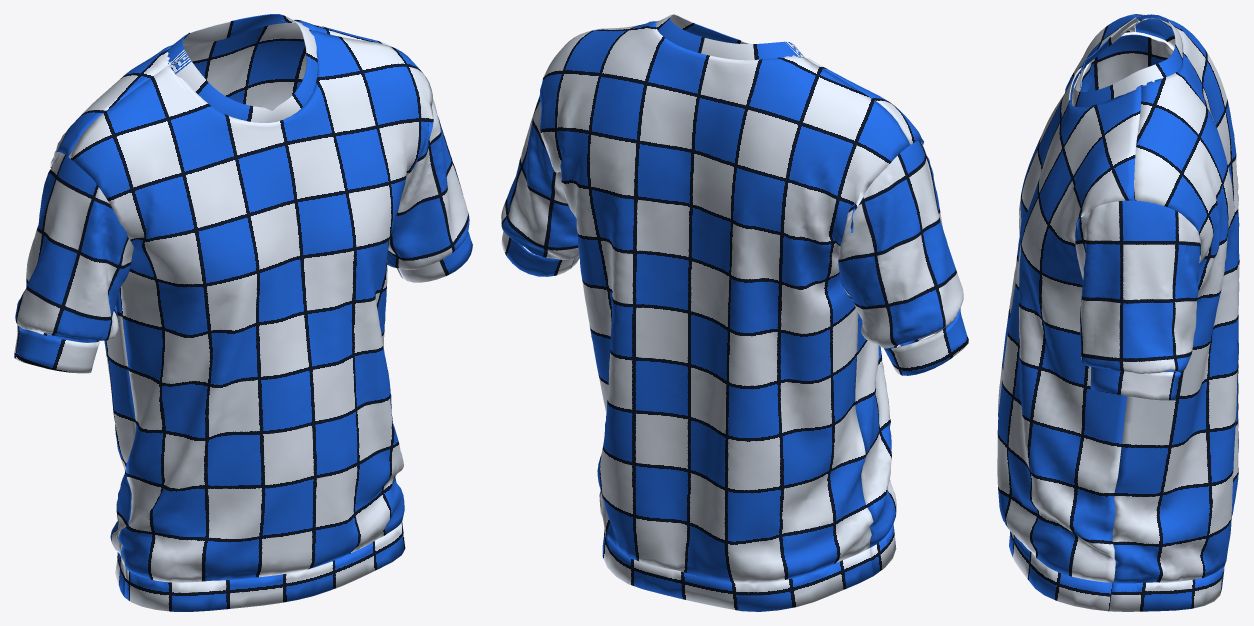
Rendered from checker.glb.
The picture shows the model from 3 angles, left to right: view 1: azimuth 30°, elevation 25°; view 2: azimuth 150°, elevation 25°; view 3: azimuth 270°, elevation 25°; orthographic projection. The views are drawn at different scales.
Parts seen in each view (by area): view 1: Crewneck_Body_Sleeve_Junctions_Hand_Smoothed_V21.004, Left_Sleeve_Root_Seated_V26, Crewneck_Body_Sleeve_Junctions_Hand_Smoothed_V21.006, Crewneck_Body_Sleeve_Junctions_Hand_Smoothed_V21.005, Right_Sleeve_Root_Seated_V26, Crewneck_Collar_Hand_Rebuilt_Online_UV_V18, Crewneck_Body_Sleeve_Junctions_Hand_Smoothed_V21, Crewneck_Body_Sleeve_Junctions_Hand_Smoothed_V21.001; view 2: Crewneck_Body_Sleeve_Junctions_Hand_Smoothed_V21.006, Left_Sleeve_Root_Seated_V26, Crewneck_Body_Sleeve_Junctions_Hand_Smoothed_V21.007, Crewneck_Body_Sleeve_Junctions_Hand_Smoothed_V21.004, Right_Sleeve_Root_Seated_V26, Crewneck_Collar_Hand_Rebuilt_Online_UV_V18, Crewneck_Body_Sleeve_Junctions_Hand_Smoothed_V21, Crewneck_Body_Sleeve_Junctions_Hand_Smoothed_V21.001, Crewneck_Body_Sleeve_Junctions_Hand_Smoothed_V21.005; view 3: Crewneck_Body_Sleeve_Junctions_Hand_Smoothed_V21.004, Crewneck_Body_Sleeve_Junctions_Hand_Smoothed_V21.006, Right_Sleeve_Root_Seated_V26, Crewneck_Body_Sleeve_Junctions_Hand_Smoothed_V21.007, Crewneck_Body_Sleeve_Junctions_Hand_Smoothed_V21.005, Left_Sleeve_Root_Seated_V26, Crewneck_Collar_Hand_Rebuilt_Online_UV_V18, Crewneck_Body_Sleeve_Junctions_Hand_Smoothed_V21.001.
Boxes of the visible parts, left/top/right/bottom form: Crewneck_Body_Sleeve_Junctions_Hand_Smoothed_V21.004: left=68, top=30, right=433, bottom=582; Left_Sleeve_Root_Seated_V26: left=15, top=152, right=133, bottom=341; Crewneck_Body_Sleeve_Junctions_Hand_Smoothed_V21.006: left=50, top=19, right=393, bottom=566; Crewneck_Body_Sleeve_Junctions_Hand_Smoothed_V21.005: left=124, top=521, right=405, bottom=611; Right_Sleeve_Root_Seated_V26: left=387, top=99, right=469, bottom=270; Crewneck_Collar_Hand_Rebuilt_Online_UV_V18: left=167, top=14, right=317, bottom=122; Crewneck_Body_Sleeve_Junctions_Hand_Smoothed_V21: left=14, top=325, right=99, bottom=373; Crewneck_Body_Sleeve_Junctions_Hand_Smoothed_V21.001: left=396, top=231, right=472, bottom=282; Crewneck_Body_Sleeve_Junctions_Hand_Smoothed_V21.006: left=539, top=21, right=909, bottom=583; Left_Sleeve_Root_Seated_V26: left=838, top=140, right=963, bottom=348; Crewneck_Body_Sleeve_Junctions_Hand_Smoothed_V21.007: left=602, top=529, right=873, bottom=611; Crewneck_Body_Sleeve_Junctions_Hand_Smoothed_V21.004: left=588, top=21, right=923, bottom=547; Right_Sleeve_Root_Seated_V26: left=501, top=96, right=579, bottom=259; Crewneck_Collar_Hand_Rebuilt_Online_UV_V18: left=655, top=14, right=804, bottom=60; Crewneck_Body_Sleeve_Junctions_Hand_Smoothed_V21: left=884, top=308, right=968, bottom=375; Crewneck_Body_Sleeve_Junctions_Hand_Smoothed_V21.001: left=501, top=231, right=579, bottom=276; Crewneck_Body_Sleeve_Junctions_Hand_Smoothed_V21.005: left=869, top=524, right=896, bottom=575; Crewneck_Body_Sleeve_Junctions_Hand_Smoothed_V21.004: left=997, top=14, right=1141, bottom=582; Crewneck_Body_Sleeve_Junctions_Hand_Smoothed_V21.006: left=1112, top=14, right=1239, bottom=583; Right_Sleeve_Root_Seated_V26: left=1075, top=199, right=1200, bottom=373; Crewneck_Body_Sleeve_Junctions_Hand_Smoothed_V21.007: left=1109, top=565, right=1224, bottom=611; Crewneck_Body_Sleeve_Junctions_Hand_Smoothed_V21.005: left=1009, top=531, right=1112, bottom=611; Left_Sleeve_Root_Seated_V26: left=1080, top=34, right=1173, bottom=191; Crewneck_Collar_Hand_Rebuilt_Online_UV_V18: left=1072, top=14, right=1182, bottom=106; Crewneck_Body_Sleeve_Junctions_Hand_Smoothed_V21.001: left=1090, top=367, right=1181, bottom=400.
Bounding box in the file's own units: 1.75 × 2.01 × 0.832.
Materials: 1 (1 with a texture image).
